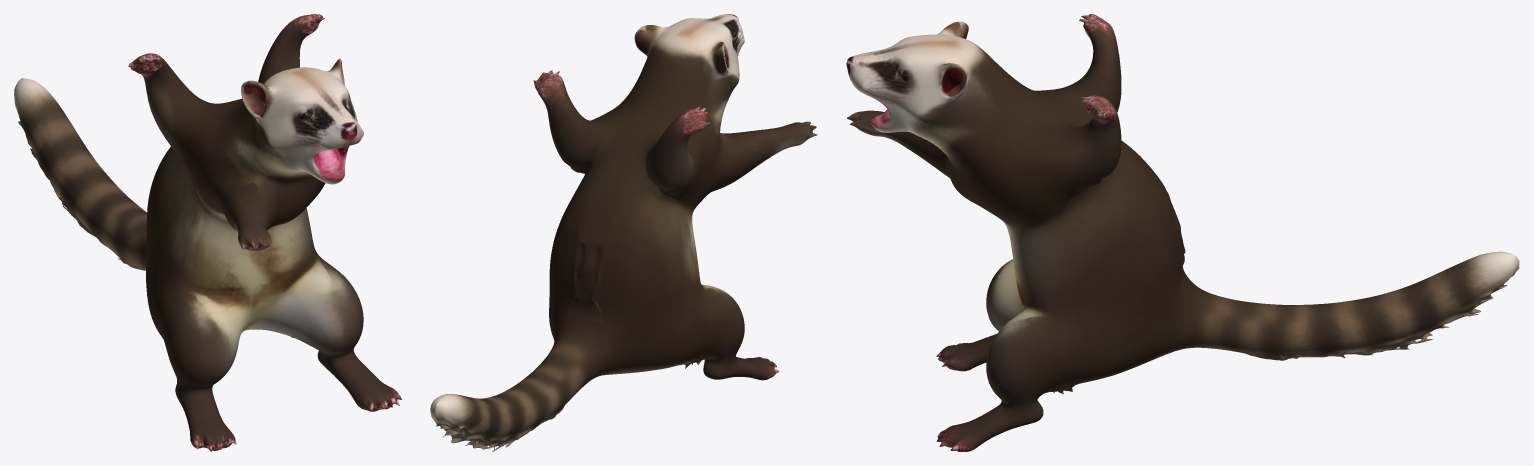
Rendered from ferret_playing.glb.
The picture shows the model from 3 angles, left to right: view 1: azimuth 30°, elevation 25°; view 2: azimuth 150°, elevation 25°; view 3: azimuth 270°, elevation 25°; orthographic projection. The views are drawn at different scales.
Parts seen in each view (by area): view 1: model; view 2: model; view 3: model.
Boxes of the visible parts, x1=… form: model: x1=14, y1=14, x2=401, y2=451; model: x1=430, y1=14, x2=817, y2=451; model: x1=846, y1=14, x2=1519, y2=451.
Bounding box in the file's own units: 0.6721 × 1.12 × 1.89.
1 material, 1 textured.
